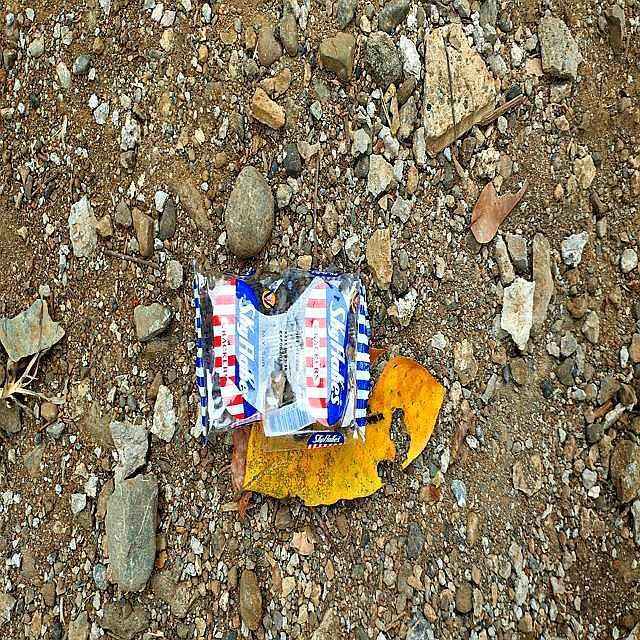Non-biodegradable: (191, 262, 368, 453)
